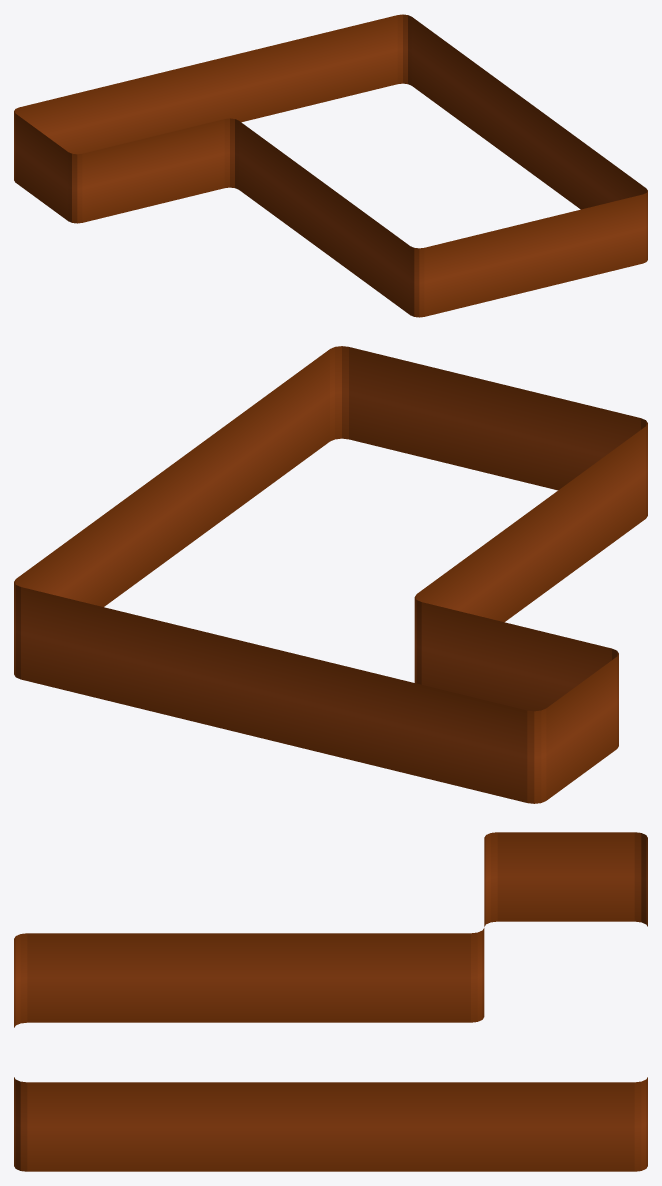
File: grass_hill_004.fbx
3 renders of one model, top to bottom at view 1: azimuth 30°, elevation 25°; view 2: azimuth 150°, elevation 25°; view 3: azimuth 270°, elevation 25°, orthographic. The views are drawn at different scales.
Visible parts, largest first — view 1: grass_hill.004; view 2: grass_hill.004; view 3: grass_hill.004.
Part boxes in pixels (<box>): grass_hill.004: <box>14,14,647,317</box>; grass_hill.004: <box>14,346,647,803</box>; grass_hill.004: <box>14,832,647,1171</box>.
Bounding box in the file's own units: 630 × 105 × 674.
